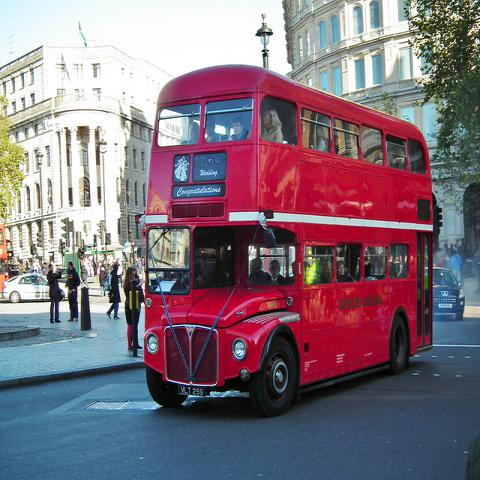bus: (142, 63, 434, 425)
car: (2, 272, 69, 302), (434, 267, 466, 322)
